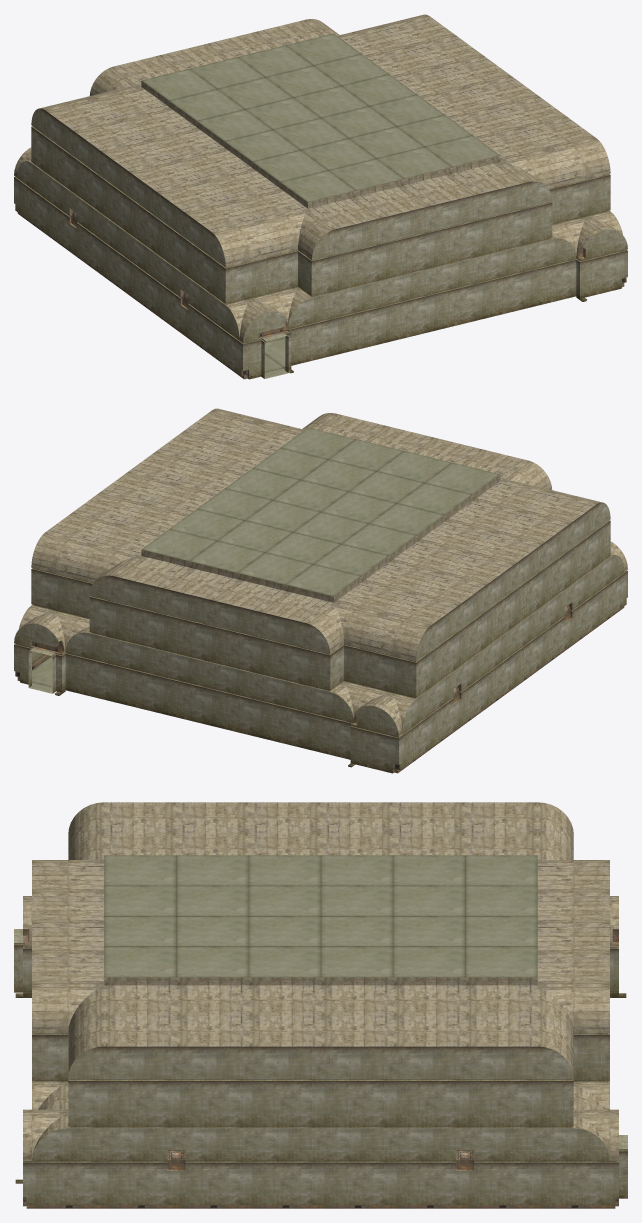
Rendered from poi_all_bunker_allum_mine_r26_filtrationroom26_mesh_r26.fbx.
3 renders of one model, top to bottom at view 1: azimuth 30°, elevation 25°; view 2: azimuth 150°, elevation 25°; view 3: azimuth 270°, elevation 25°, orthographic. The views are drawn at different scales.
Parts seen in each view (by area): view 1: mesh_node; view 2: mesh_node; view 3: mesh_node.
Part boxes in pixels (x1=…): mesh_node: x1=14, y1=14, x2=627, y2=379; mesh_node: x1=14, y1=408, x2=627, y2=773; mesh_node: x1=14, y1=802, x2=627, y2=1208.
Bounding box in the file's own units: 32 × 12.5 × 34.
